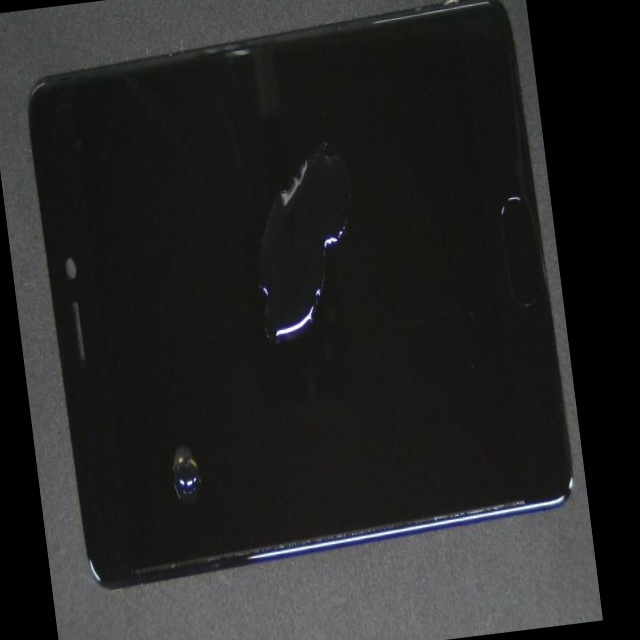oil: (147, 168, 513, 467), (85, 204, 267, 640)
